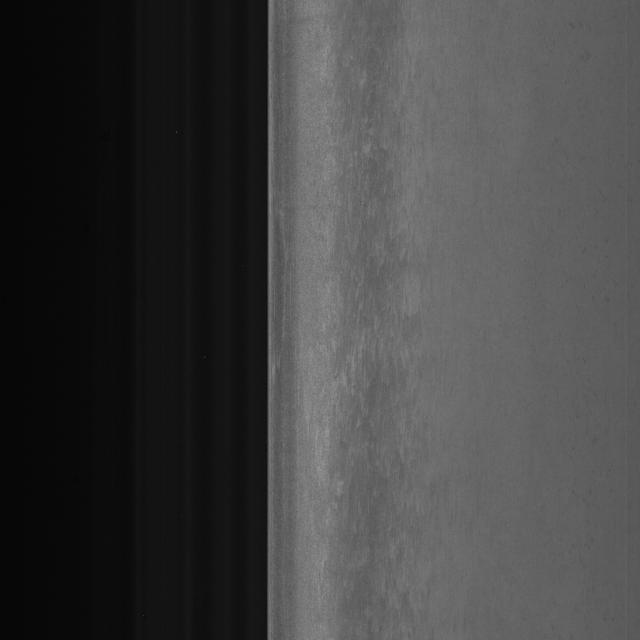inclusion: (326, 66, 412, 578)
